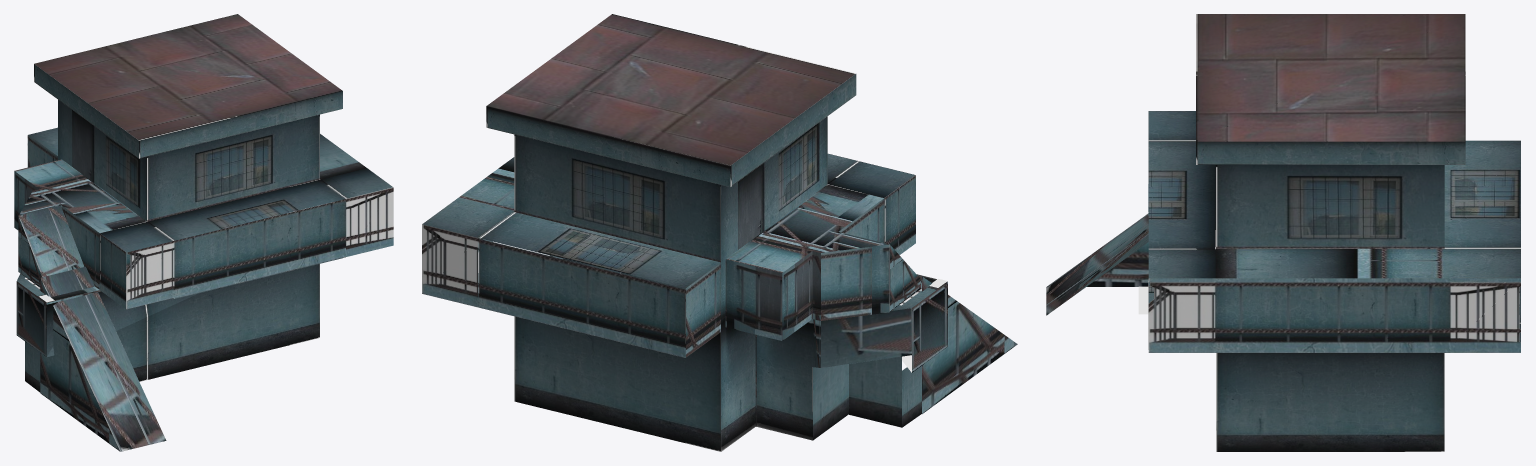
File: Metal Building with Stairs_more complicated.fbx
The picture shows the model from 3 angles, left to right: view 1: azimuth 30°, elevation 25°; view 2: azimuth 150°, elevation 25°; view 3: azimuth 270°, elevation 25°; orthographic projection. The views are drawn at different scales.
Visible parts, largest first — view 1: Model; view 2: Model; view 3: Model.
Part boxes in pixels (left/top/right/bottom): Model: left=14, top=14, right=393, bottom=451; Model: left=422, top=14, right=1017, bottom=451; Model: left=1046, top=14, right=1520, bottom=451.
Bounding box in the file's own units: 160 × 119 × 160.
